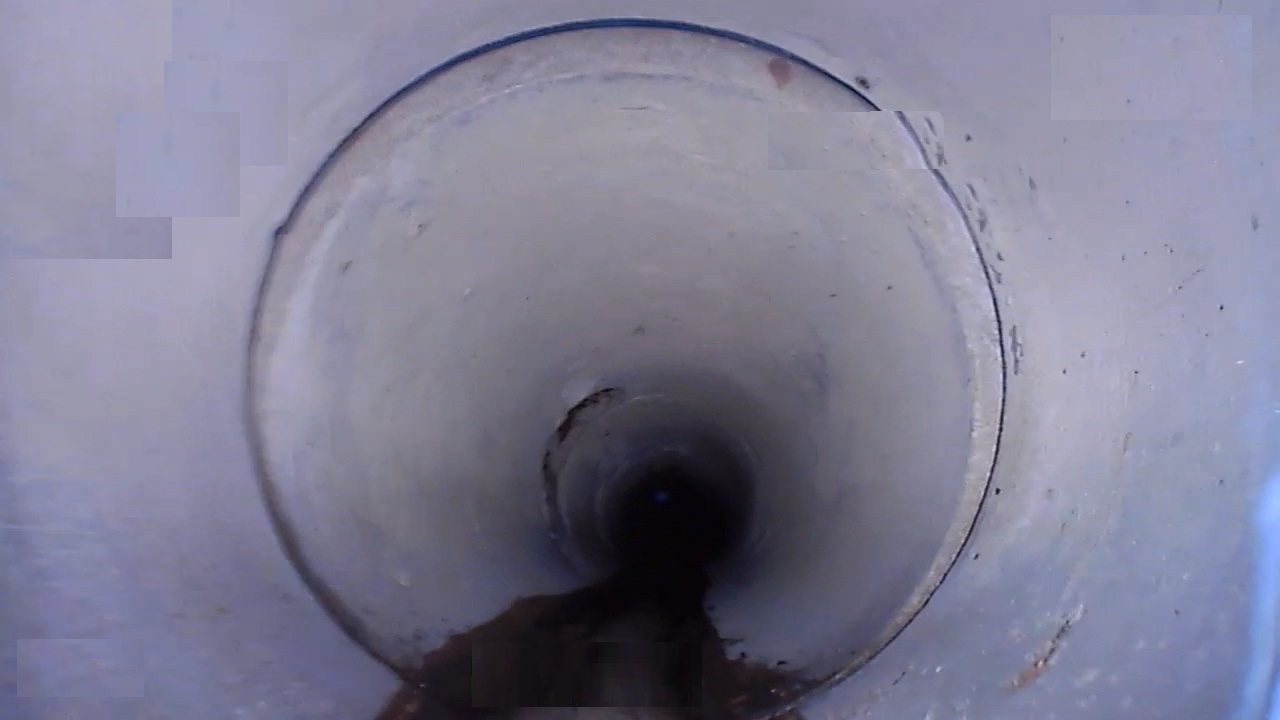circle1: (238, 15, 1011, 720)
circle2: (615, 472, 722, 570)
